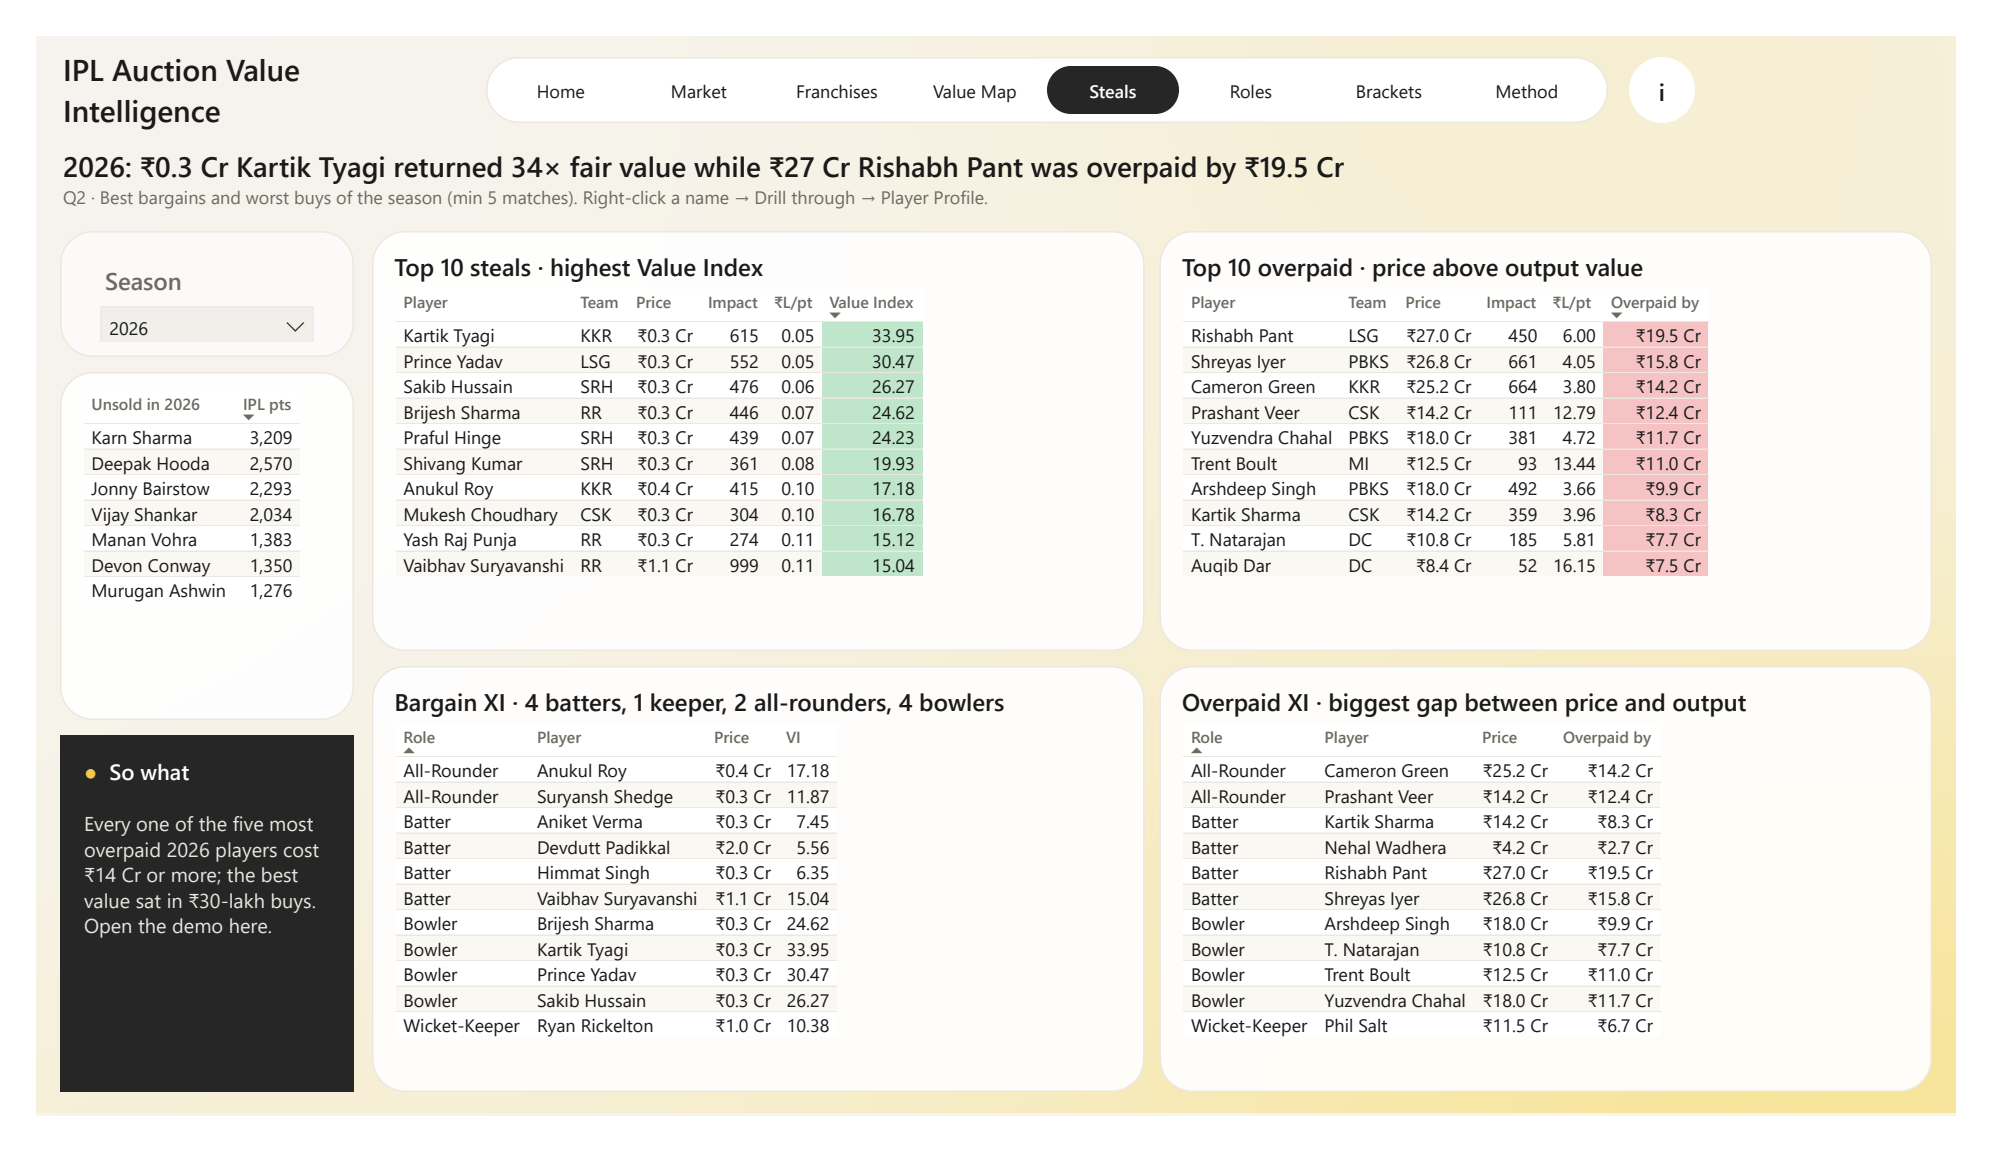

The page's visual inventory and layout, read from the dashboard file:
{"tool":"powerbi","page":{"name":"4 Steals and Overpaid","canvas":[1280,720],"ordinal":4},"visuals":[{"type":"textbox","box":[16,8,270,66],"z":1000},{"type":"textbox","box":[300,14,748,44],"z":2000},{"type":"actionButton","title":"Home","box":[306,20,88,32],"z":3000},{"type":"actionButton","title":"Market","box":[398,20,88,32],"z":4000},{"type":"actionButton","title":"Franchises","box":[490,20,88,32],"z":5000},{"type":"actionButton","title":"Value Map","box":[582,20,88,32],"z":6000},{"type":"actionButton","title":"Steals","box":[674,20,88,32],"z":7000},{"type":"actionButton","title":"Roles","box":[766,20,88,32],"z":8000},{"type":"actionButton","title":"Brackets","box":[858,20,88,32],"z":9000},{"type":"actionButton","title":"Method","box":[950,20,88,32],"z":10000},{"type":"actionButton","title":"i","box":[1062,14,44,44],"z":11000},{"type":"textbox","box":[16,74,1248,50],"z":12000},{"type":"textbox","box":[16,130,196,84],"z":13000},{"type":"slicer","fields":{"Values":["DimSeason.Season"]},"box":[24,140,180,64],"z":14000},{"type":"tableEx","fields":{"Values":["UnsoldPlayers.Player","_Measures.Unsold Career Impact"]},"box":[16,224,196,232],"z":15000},{"type":"textbox","box":[16,466,196,238],"z":16000},{"type":"tableEx","title":"Top 10 steals · highest Value Index","fields":{"Values":["DimPlayer.PlayerName","_Measures.Teams Played For","_Measures.Spend Cr","_Measures.Priced Impact","_Measures.Lakh per Point","_Measures.Value Index (min 5 matches)"]},"box":[224,130,515,280],"z":17000},{"type":"tableEx","title":"Top 10 overpaid · price above output value","fields":{"Values":["DimPlayer.PlayerName","_Measures.Teams Played For","_Measures.Spend Cr","_Measures.Priced Impact","_Measures.Lakh per Point","_Measures.Overpay Cr"]},"box":[749,130,515,280],"z":18000},{"type":"tableEx","title":"Bargain XI · 4 batters, 1 keeper, 2 all-rounders, 4 bowlers","fields":{"Values":["DimPlayer.Role","DimPlayer.PlayerName","_Measures.Spend Cr","_Measures.Value Index"]},"box":[224,420,515,284],"z":19000},{"type":"tableEx","title":"Overpaid XI · biggest gap between price and output","fields":{"Values":["DimPlayer.Role","DimPlayer.PlayerName","_Measures.Spend Cr","_Measures.Overpay Cr"]},"box":[749,420,515,284],"z":20000}]}

Visuals, with their boxes in screenshot pixels (x1, y1, x2, y2), scaled from the page's 1280x720 canvas onto the 1992x1152 screenshot:
textbox: 25:13:445:118
textbox: 467:22:1631:93
"Home" actionButton: 476:32:613:83
"Market" actionButton: 619:32:756:83
"Franchises" actionButton: 763:32:900:83
"Value Map" actionButton: 906:32:1043:83
"Steals" actionButton: 1049:32:1186:83
"Roles" actionButton: 1192:32:1329:83
"Brackets" actionButton: 1335:32:1472:83
"Method" actionButton: 1478:32:1615:83
"i" actionButton: 1653:22:1721:93
textbox: 25:118:1967:198
textbox: 25:208:330:342
slicer - DimSeason.Season: 37:224:317:326
tableEx - UnsoldPlayers.Player x _Measures.Unsold Career Impact: 25:358:330:730
textbox: 25:746:330:1126
"Top 10 steals · highest Value Index" tableEx: 349:208:1150:656
"Top 10 overpaid · price above output value" tableEx: 1166:208:1967:656
"Bargain XI · 4 batters, 1 keeper, 2 all-rounders, 4 bowlers" tableEx: 349:672:1150:1126
"Overpaid XI · biggest gap between price and output" tableEx: 1166:672:1967:1126
